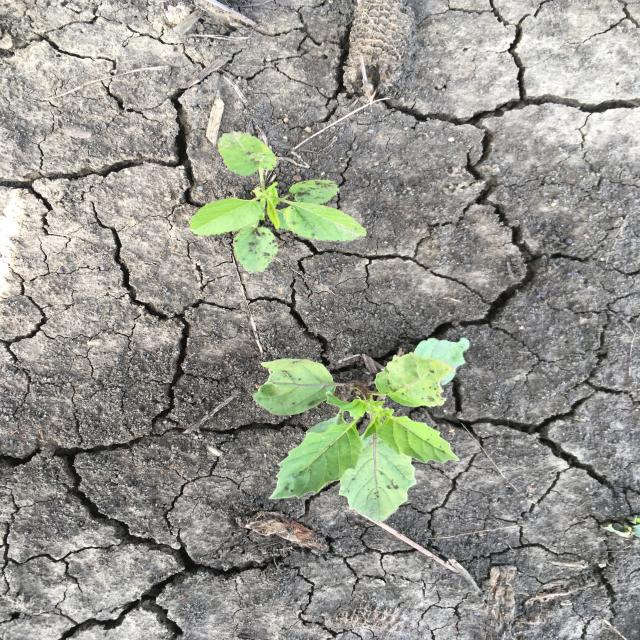CutleafGroundcherry: (250, 337, 472, 525)
PricklySida: (186, 130, 370, 275)
